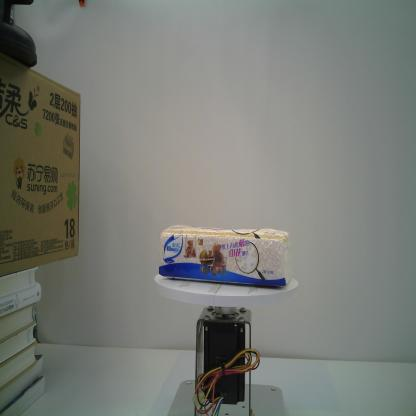Tissue: (157, 223, 297, 289)
